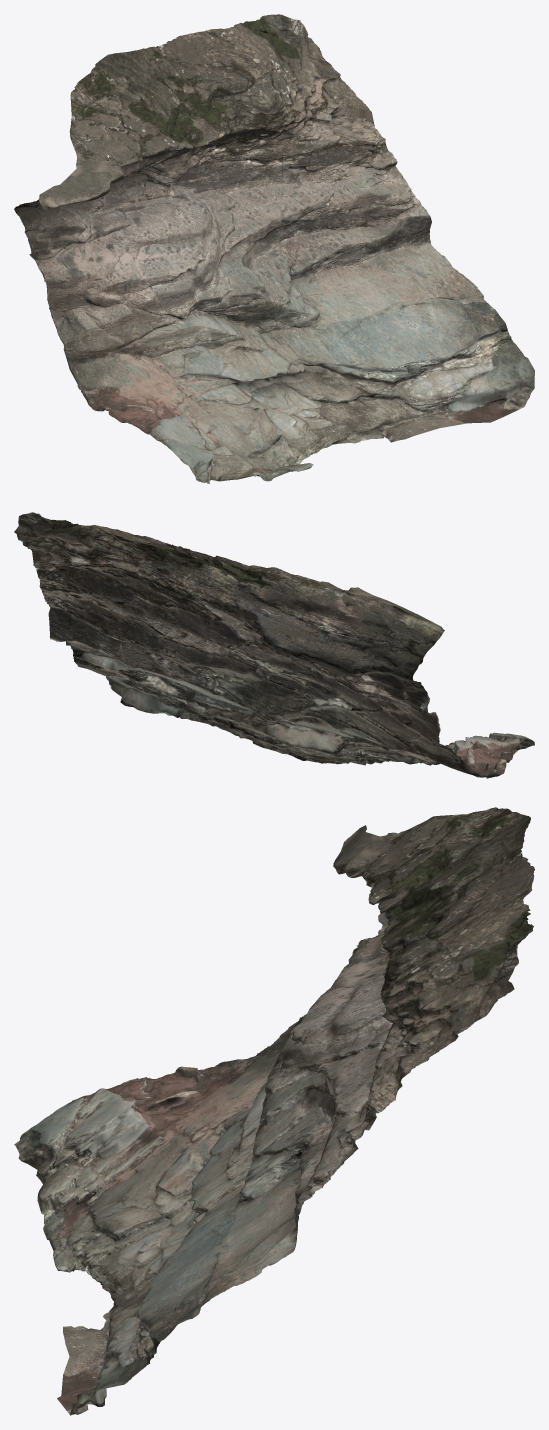
The model's file is rock_face_01.glb.
3 views of the same model, one above another, from view 1: azimuth 30°, elevation 25°; view 2: azimuth 150°, elevation 25°; view 3: azimuth 270°, elevation 25° (orthographic). The views are drawn at different scales.
Parts seen in each view (by area): view 1: rock_face_01_LOD0; view 2: rock_face_01_LOD0; view 3: rock_face_01_LOD0.
Part boxes in pixels (x1,y1,x2,y2): rock_face_01_LOD0: (14,14,534,483); rock_face_01_LOD0: (14,512,534,778); rock_face_01_LOD0: (14,807,534,1415).
Size of what is drawn, in the model's own units: 9.98 by 7.13 by 7.81.
1 material, 1 textured.
